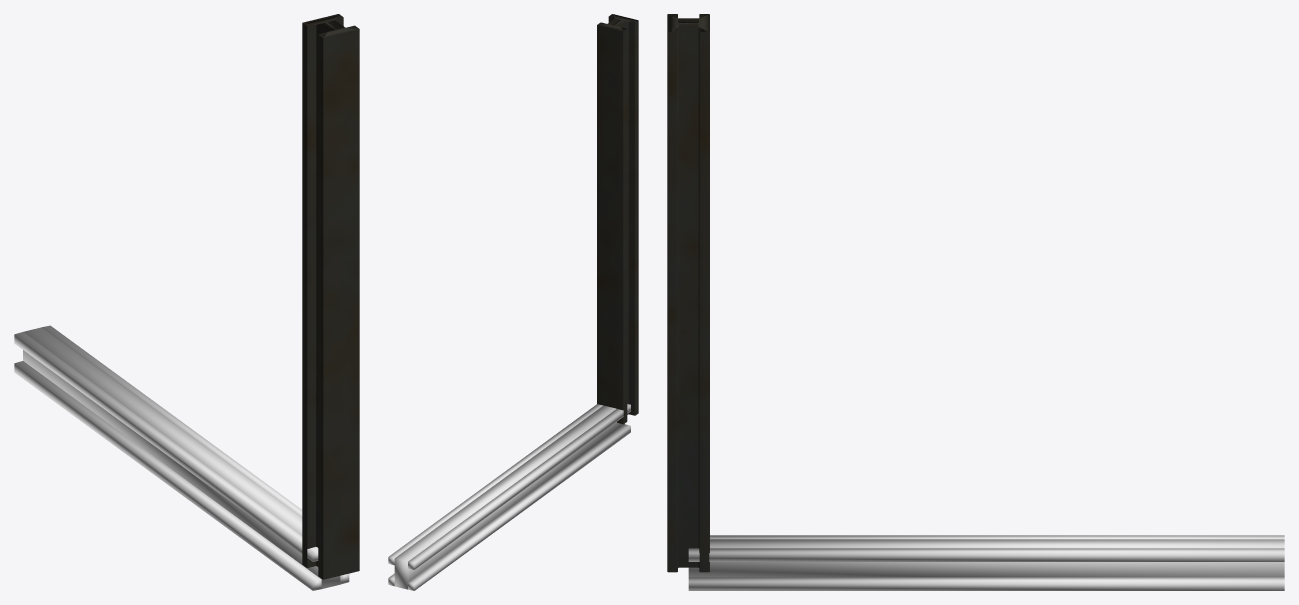
File: SM_Beam_Large_02.fbx
3 renders of one model, left to right at view 1: azimuth 30°, elevation 25°; view 2: azimuth 150°, elevation 25°; view 3: azimuth 270°, elevation 25°, orthographic. The views are drawn at different scales.
Visible parts, largest first — view 1: SM_Beam_Large_02, SM_Beam_Large_02_ConvexHulls; view 2: SM_Beam_Large_02, SM_Beam_Large_02_ConvexHulls; view 3: SM_Beam_Large_02_ConvexHulls, SM_Beam_Large_02.
Boxes of the visible parts, box(x1,y1,x2,y2) form: SM_Beam_Large_02: box(302, 14, 359, 579); SM_Beam_Large_02_ConvexHulls: box(14, 325, 349, 590); SM_Beam_Large_02: box(597, 14, 638, 424); SM_Beam_Large_02_ConvexHulls: box(388, 404, 630, 590); SM_Beam_Large_02_ConvexHulls: box(688, 535, 1284, 590); SM_Beam_Large_02: box(667, 14, 709, 572).
Bounding box in the file's own units: 0.2 × 2.9 × 2.9.
